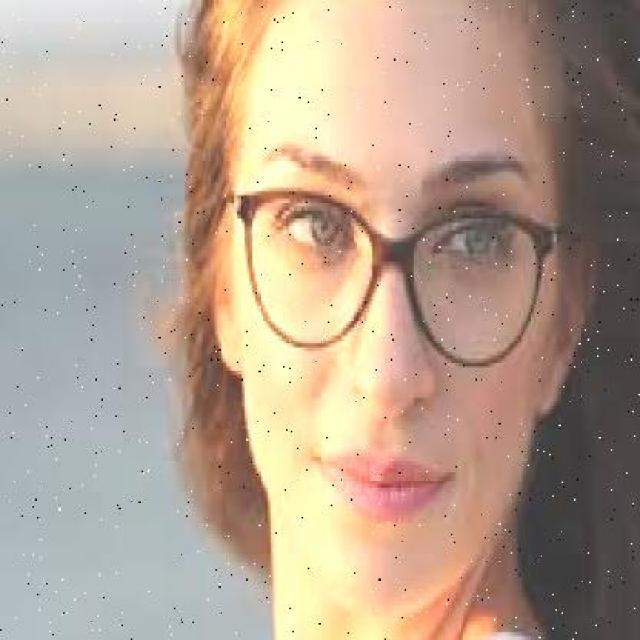mask: (224, 153, 568, 381)
